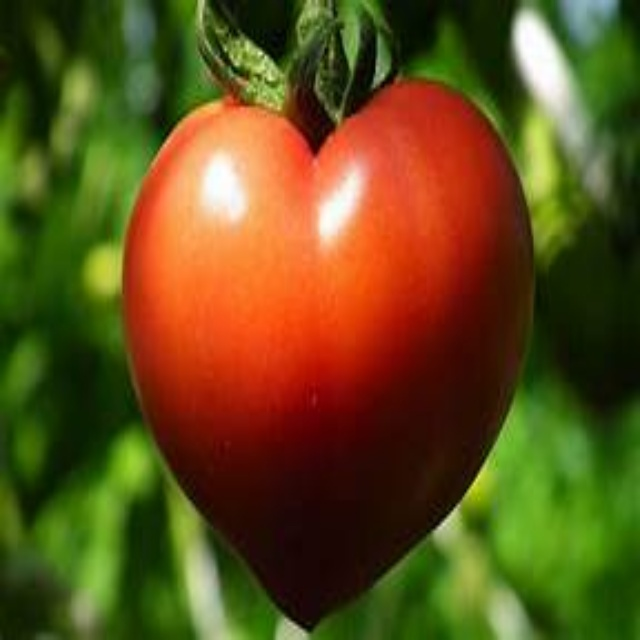tomato: (113, 70, 547, 617)
